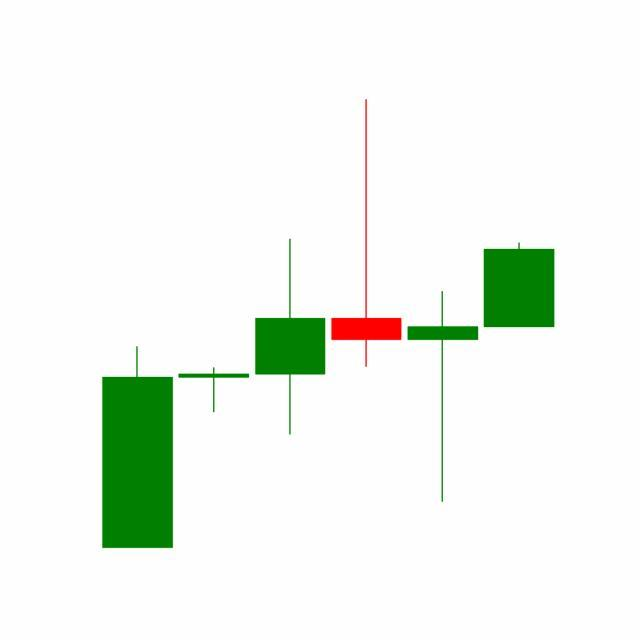Spinning Top: (404, 289, 482, 505)
